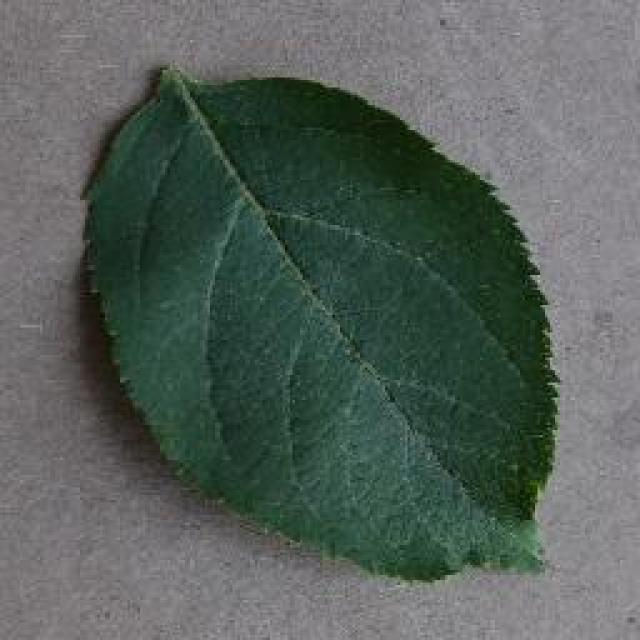apple healthy: (78, 60, 562, 582)
